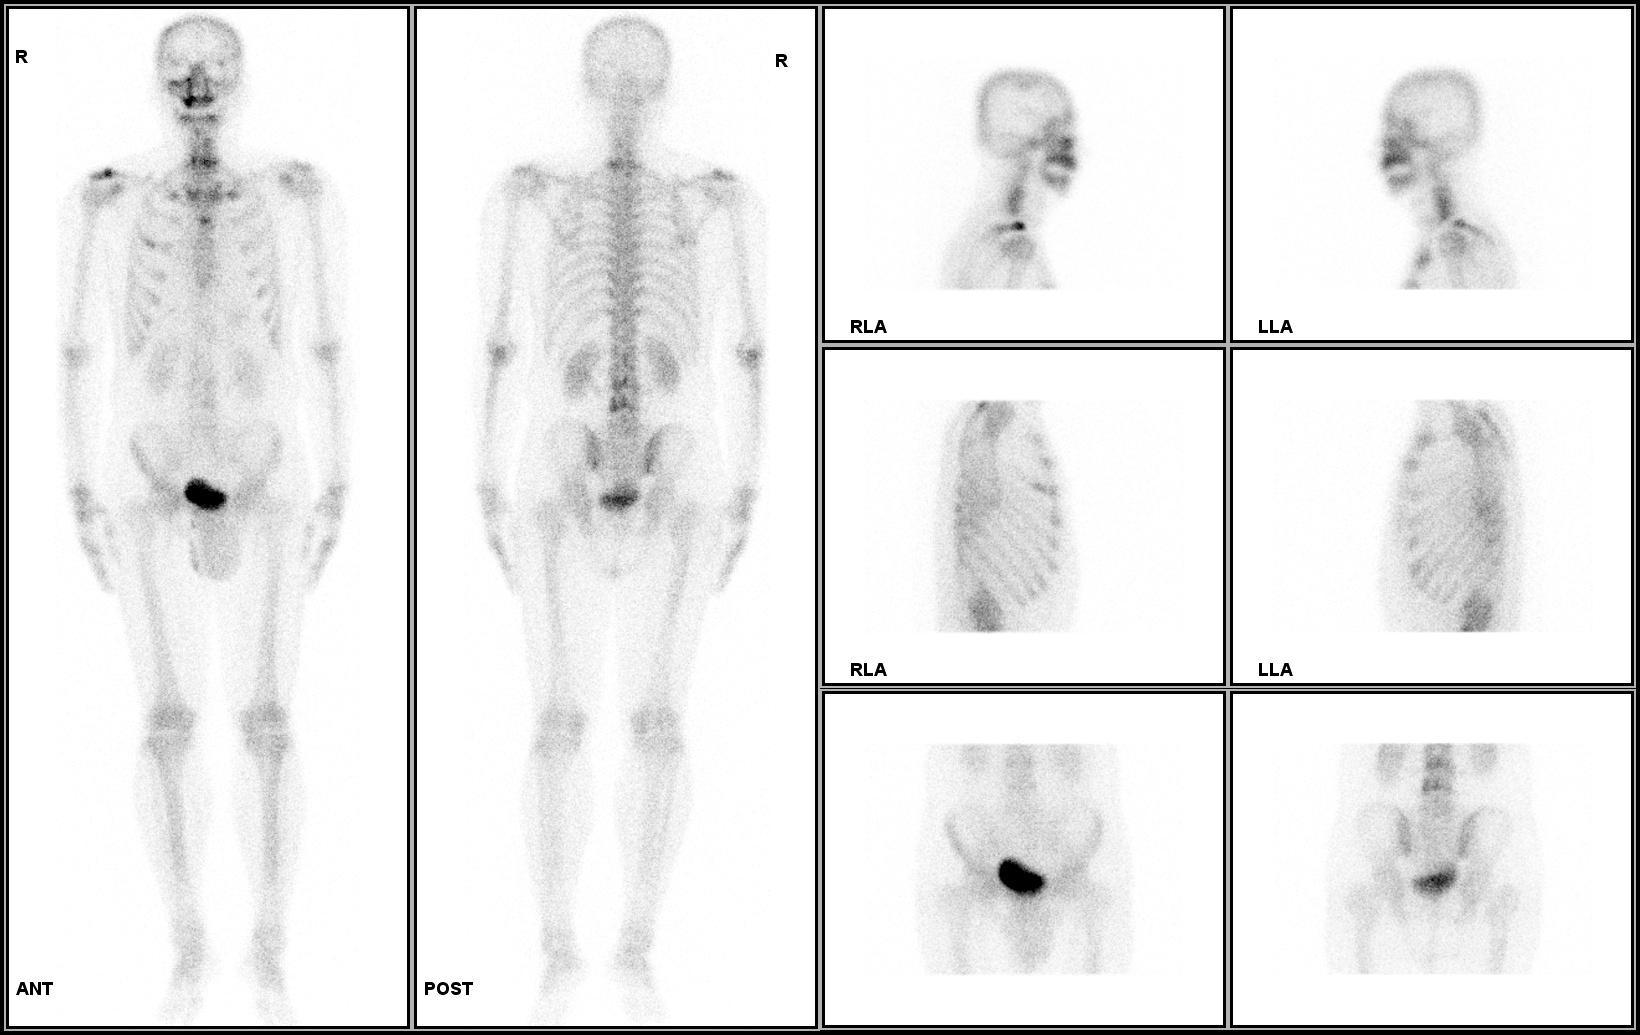person: (6, 4, 818, 1027)
